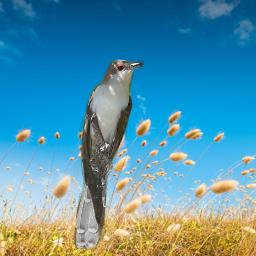Cuckoo: (73, 57, 145, 249)
